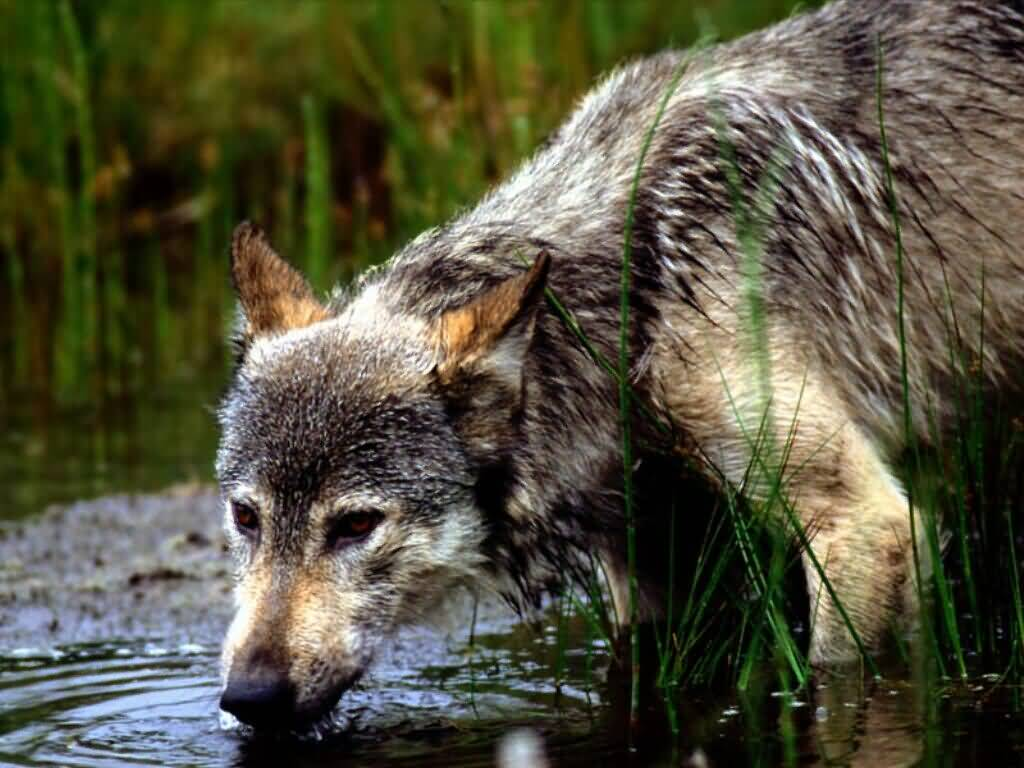wolf: (200, 1, 1024, 737)
